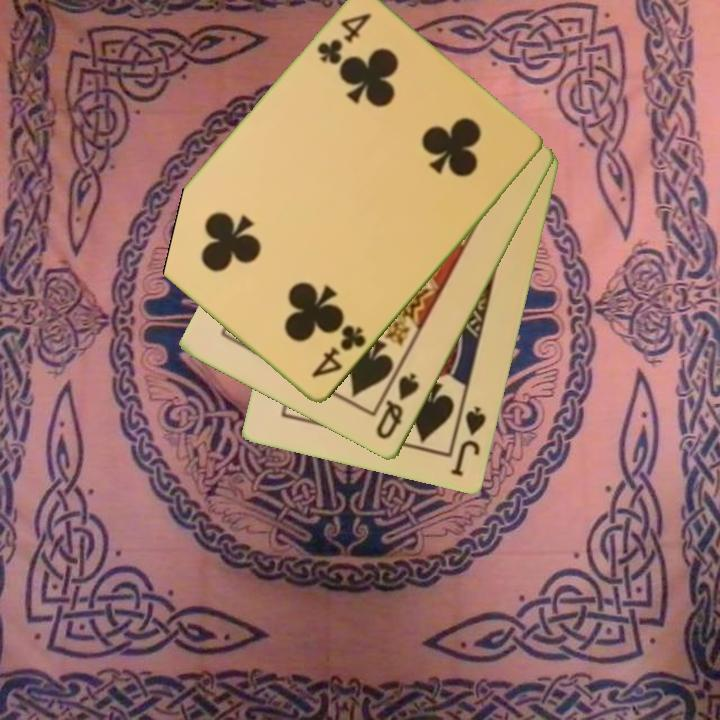4c: (308, 321, 369, 382), (313, 9, 375, 69)
Js: (447, 403, 490, 480)
Qs: (372, 370, 422, 443)
